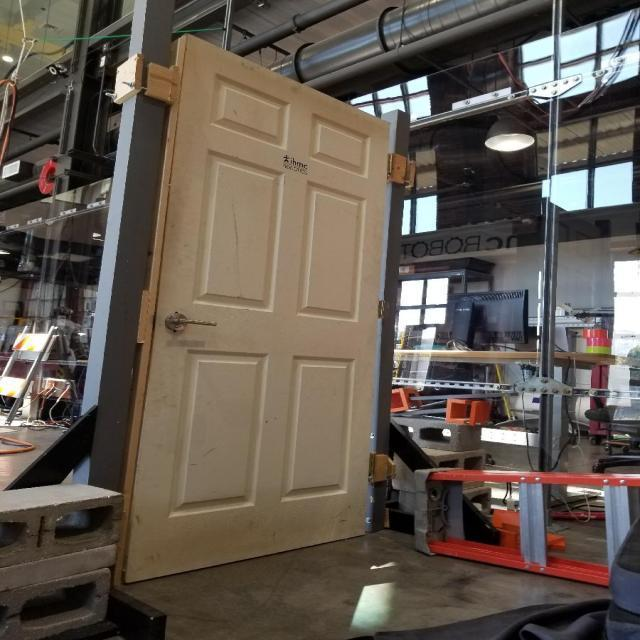door: (119, 29, 394, 586), (160, 309, 225, 342)
